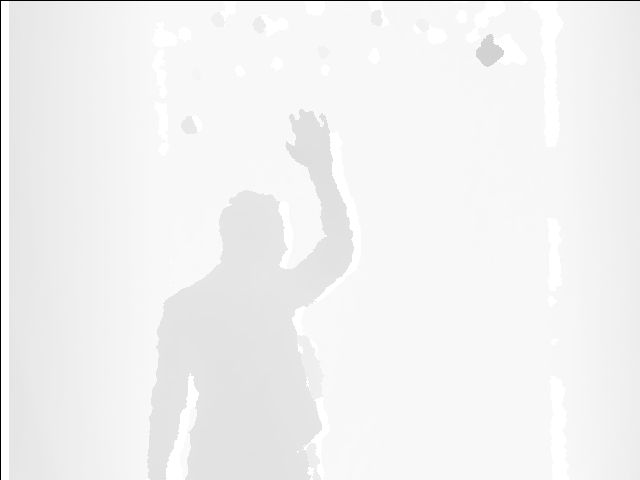hand: (284, 106, 339, 175)
